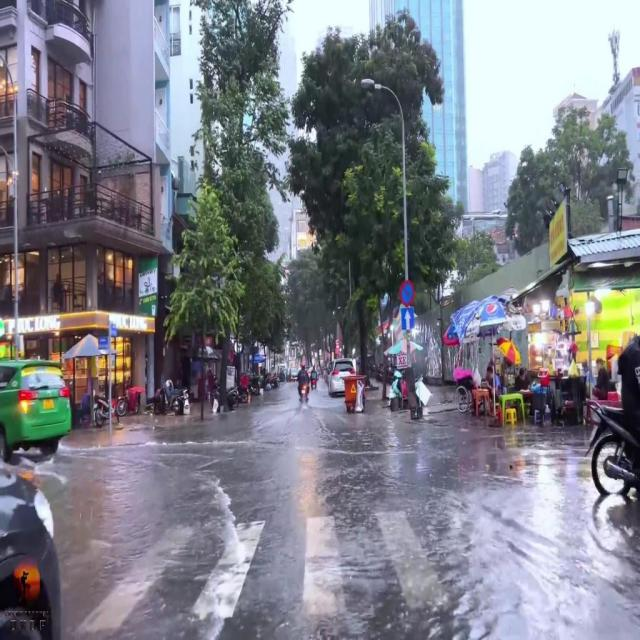cam_do_xe: (401, 280, 414, 306)
duong_mot_chieu: (401, 308, 415, 328)
